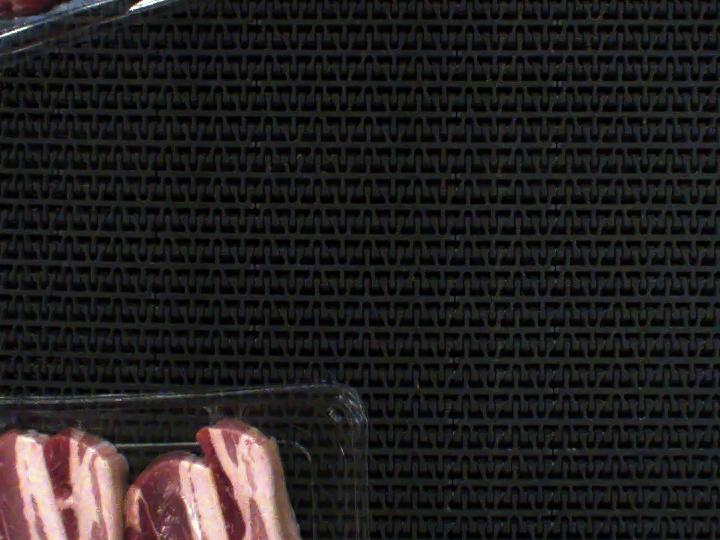packaging-error: (201, 399, 256, 423)
